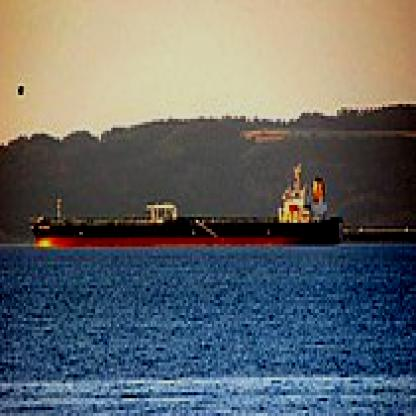Tanker: (33, 200, 341, 251)
